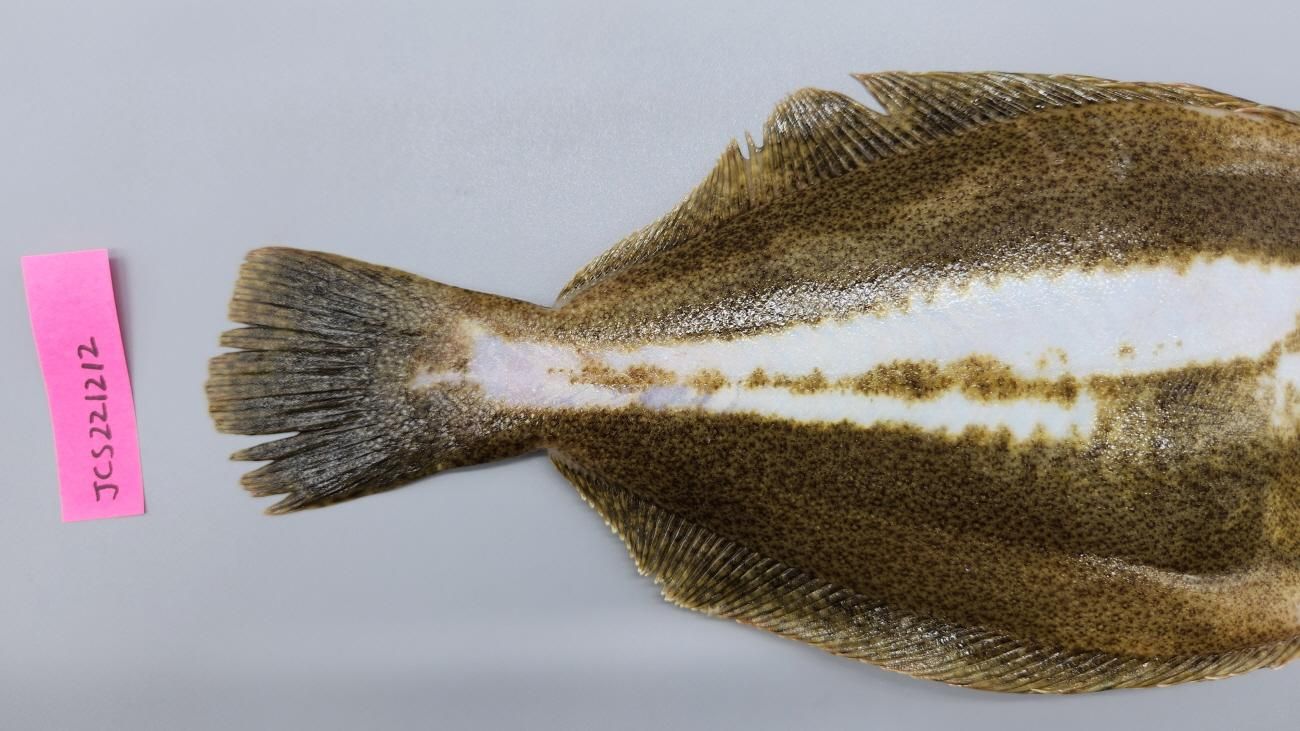POOUN: (204, 69, 1300, 697)
